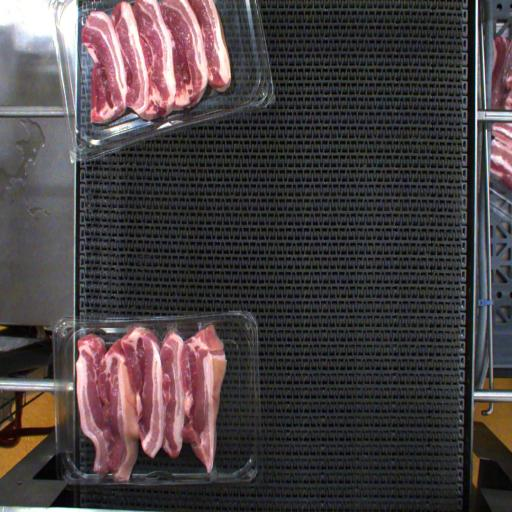packaging-error: (158, 318, 184, 342), (193, 318, 224, 335)
